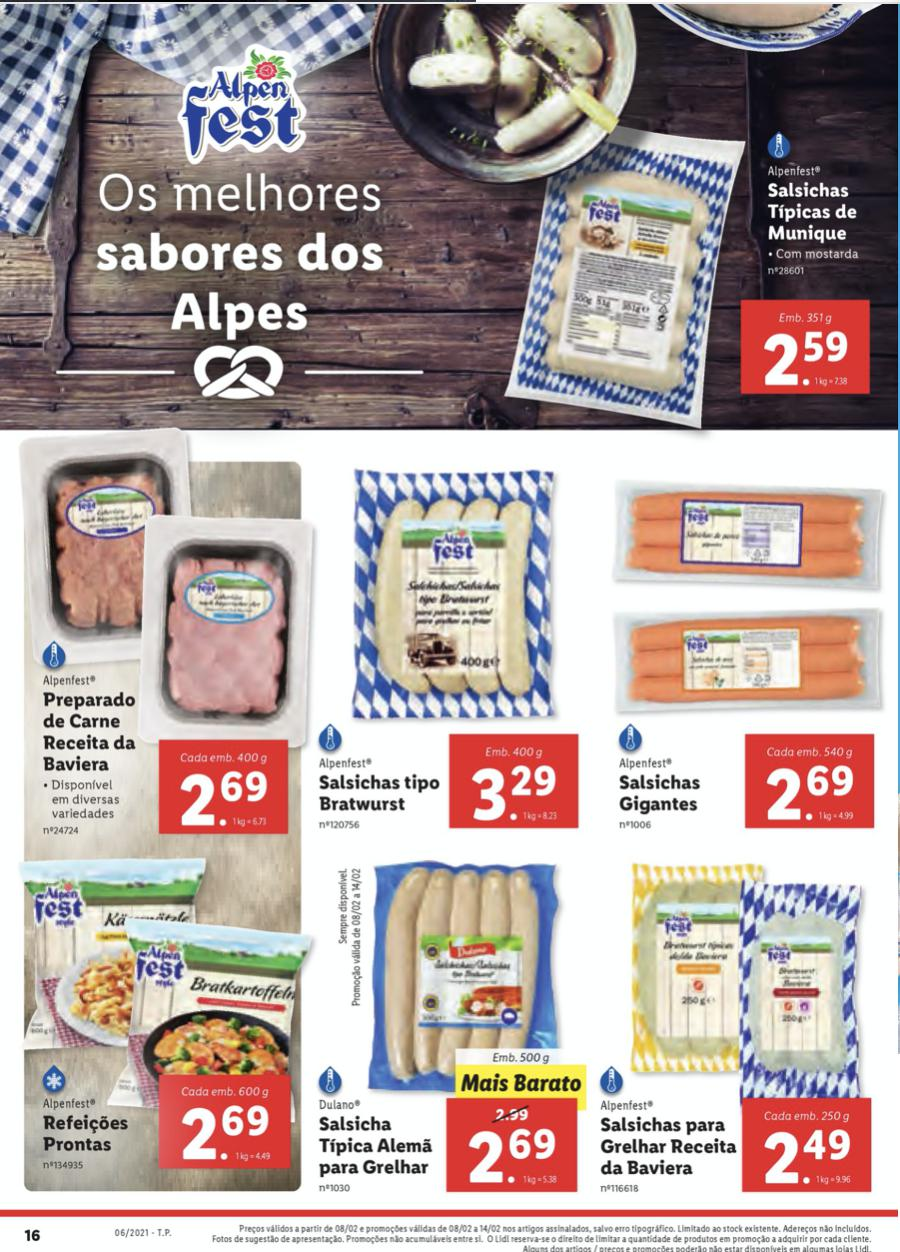name: (596, 1112, 737, 1180), (35, 692, 140, 775), (317, 1111, 439, 1181), (318, 770, 446, 812), (603, 772, 712, 812), (40, 1111, 135, 1155)
price: (159, 737, 285, 837), (745, 1122, 871, 1192), (456, 1122, 575, 1191), (171, 1098, 289, 1166), (748, 762, 878, 822), (462, 762, 579, 825)
product: (18, 434, 306, 852), (596, 459, 889, 836), (589, 836, 889, 1198), (321, 456, 595, 845), (304, 845, 595, 1186), (10, 861, 304, 1186)
